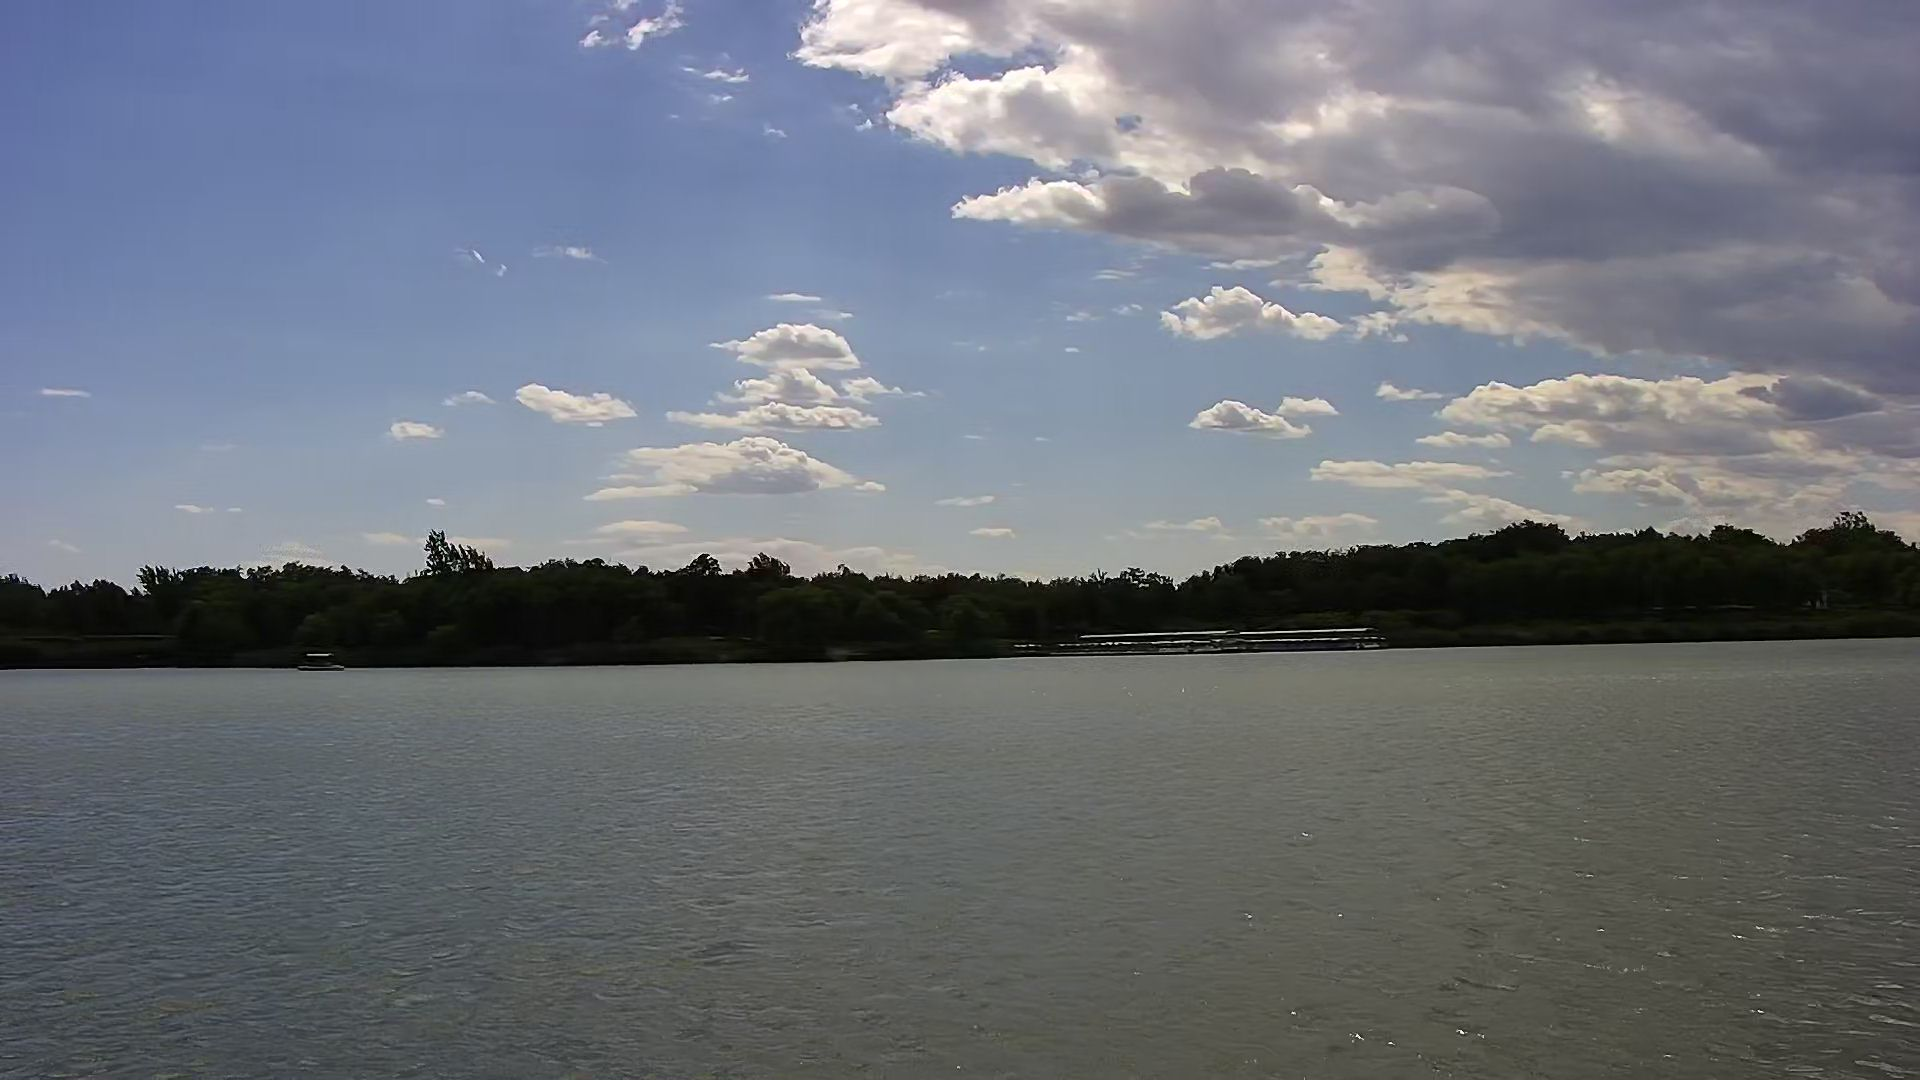boat: (291, 642, 342, 676)
harbor: (1021, 624, 1391, 655)
